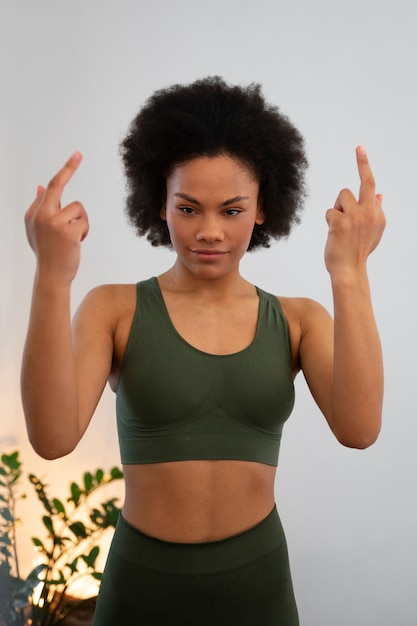insulting_gesture: (21, 148, 96, 268), (317, 147, 390, 270)
